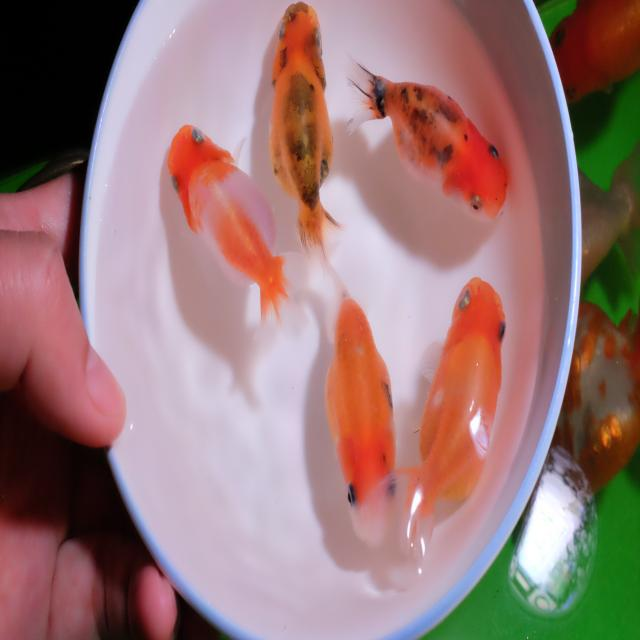Tilapia: (383, 276, 506, 568), (346, 53, 508, 221), (167, 123, 294, 330), (319, 258, 397, 558), (269, 1, 345, 282), (548, 0, 639, 105)
